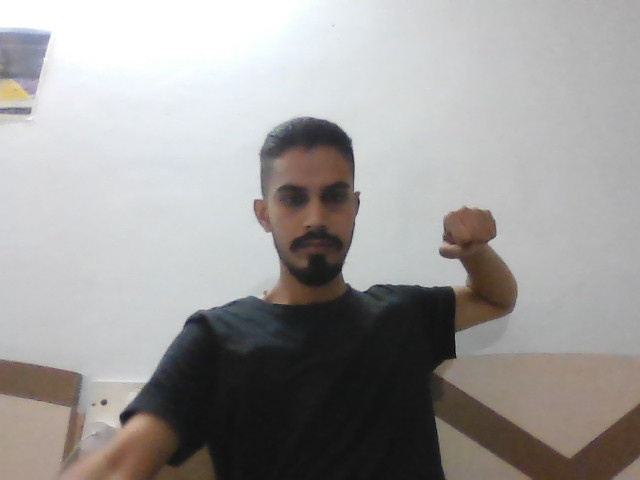Yes: (438, 203, 503, 258)
